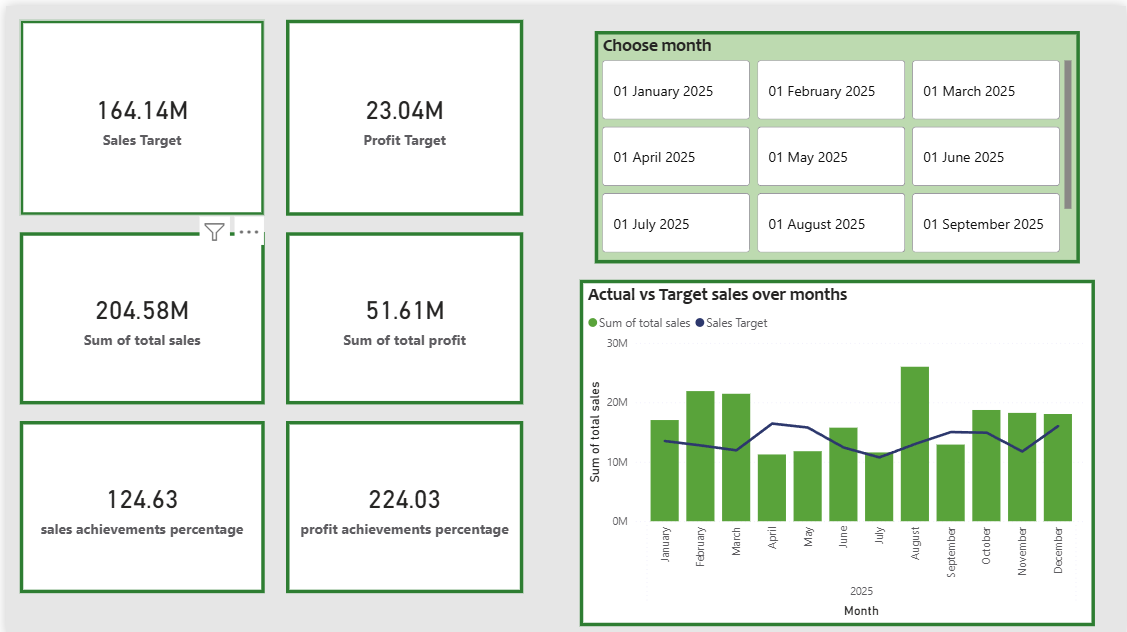

Layout of this report page (visuals, bound fields, positions):
{"tool":"powerbi","page":{"name":"Page 3","canvas":[1280,720],"ordinal":2},"visuals":[{"type":"card","fields":{"Values":["Sum(order_details.total price per order)"]},"box":[15.7,258.6,280,197.1],"z":0},{"type":"advancedSlicerVisual","title":"Choose month","fields":{"Values":["monthly_targets.target_month"]},"box":[672.9,28.6,554.3,265.7],"z":1000},{"type":"card","fields":{"Values":["orders.Sales Target"]},"box":[15.7,15.7,280,224.3],"z":2000},{"type":"card","fields":{"Values":["order_details.profit target measure"]},"box":[320,15.7,271.4,224.3],"z":3000},{"type":"card","fields":{"Values":["Sum(order_details.total profit per order)"]},"box":[320,258.6,271.4,197.1],"z":4000},{"type":"card","fields":{"Values":["orders.sales acheivemnets percentage"]},"box":[320,474.3,271.4,197.1],"z":5000},{"type":"card","fields":{"Values":["orders.sales acheivemnets percentage"]},"box":[15.7,474.3,280,197.1],"z":6000},{"type":"lineClusteredColumnComboChart","title":"Actual vs Target sales over months","fields":{"Category":["monthly_targets.target_month.Variation.Date Hierarchy.Year","monthly_targets.target_month.Variation.Date Hierarchy.Month"],"Y":["Sum(order_details.total sales per order)"],"Y2":["orders.Sales Target"]},"box":[655.7,312.9,588.6,395.7],"z":7000}]}

Visuals, with their boxes in screenshot pixels (x1, y1, x2, y2), scaled from the page's 1280x720 canvas onto the 1127x632 screenshot:
card - Sum(order_details.total price per order): crop(14, 227, 260, 400)
"Choose month" advancedSlicerVisual: crop(592, 25, 1081, 258)
card - orders.Sales Target: crop(14, 14, 260, 211)
card - order_details.profit target measure: crop(282, 14, 521, 211)
card - Sum(order_details.total profit per order): crop(282, 227, 521, 400)
card - orders.sales acheivemnets percentage: crop(282, 416, 521, 589)
card - orders.sales acheivemnets percentage: crop(14, 416, 260, 589)
"Actual vs Target sales over months" lineClusteredColumnComboChart: crop(577, 275, 1096, 622)
